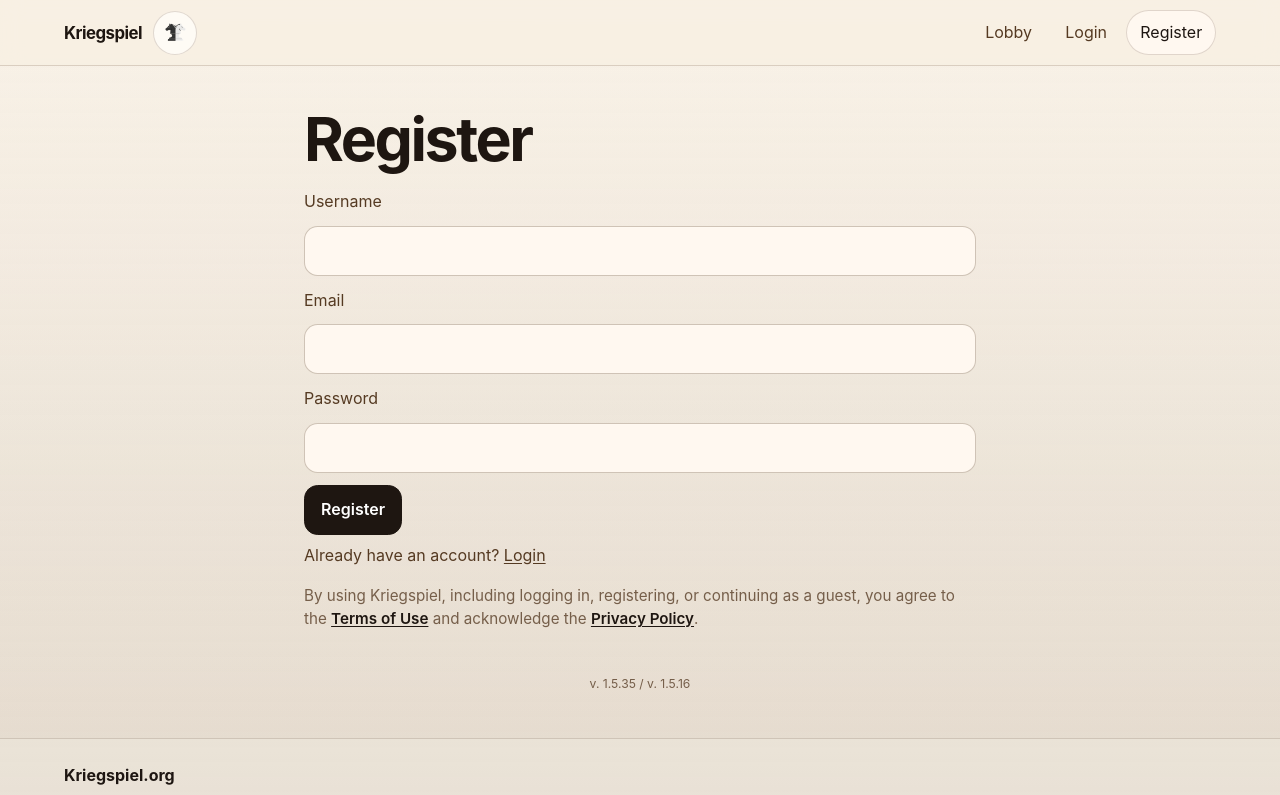
Test: App routes › shows_inline_validation_message_for_empty_register_form
This screenshot has width=1280, height=795.
What coordinates should you click on to do the following:
click the button "Register"
I would click on:
 (353, 510)
Its box is [304,485,402,535].
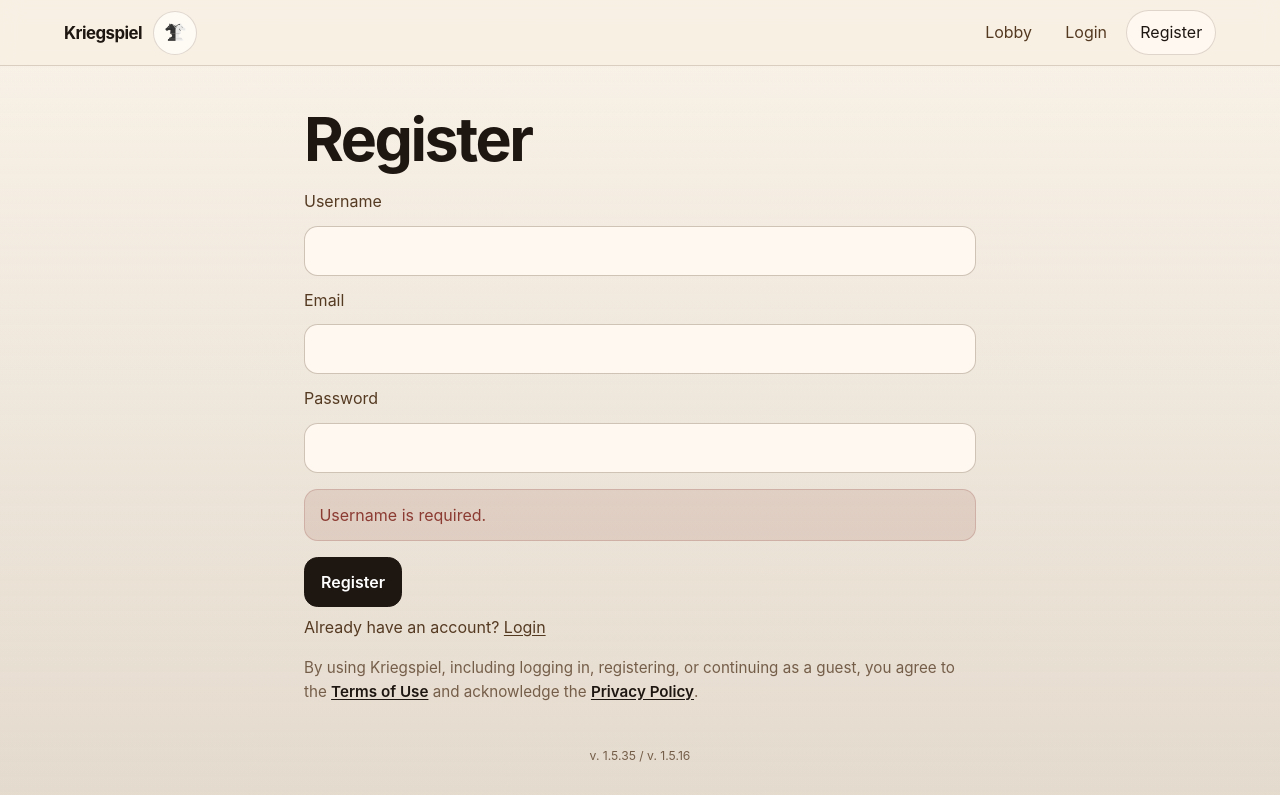
Expected: the text "Username is required." is shown, [304,489,976,541]
